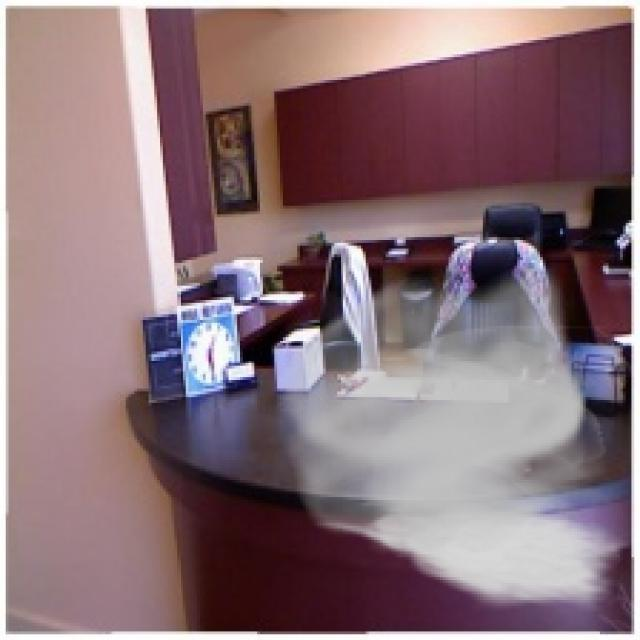Smoke: (268, 266, 628, 612)
